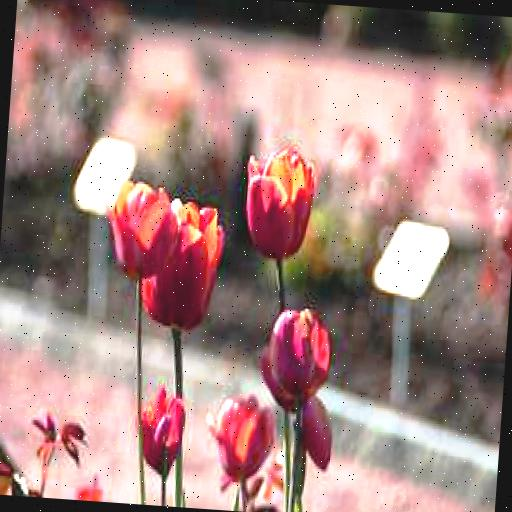tulip: (140, 196, 226, 332), (242, 143, 318, 254), (100, 180, 180, 280), (205, 394, 278, 485), (132, 384, 190, 472)
